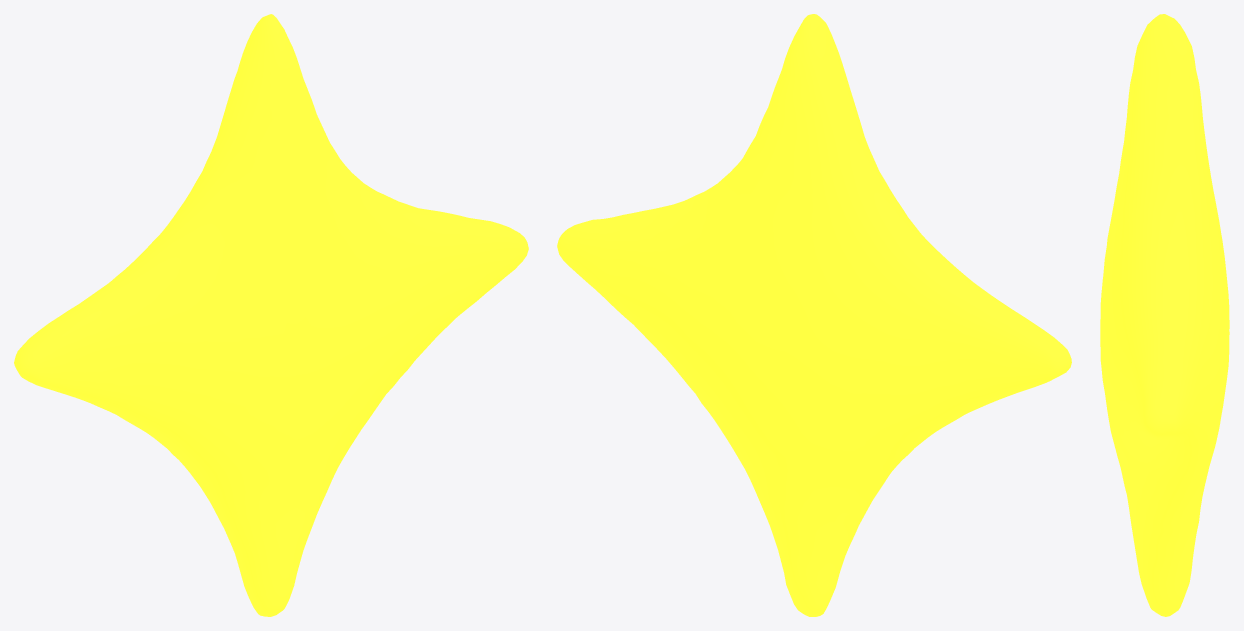
The model's file is star.glb.
3 views of the same model, side by side, from view 1: azimuth 30°, elevation 25°; view 2: azimuth 150°, elevation 25°; view 3: azimuth 270°, elevation 25° (orthographic).
Parts seen in each view (by area): view 1: star1; view 2: star1; view 3: star1.
Part boxes in pixels (x1,y1,x2,y2): star1: (14, 14, 528, 616); star1: (557, 14, 1071, 616); star1: (1100, 14, 1229, 616).
Bounding box in the file's own units: 0.2571 × 0.2907 × 0.0565.
